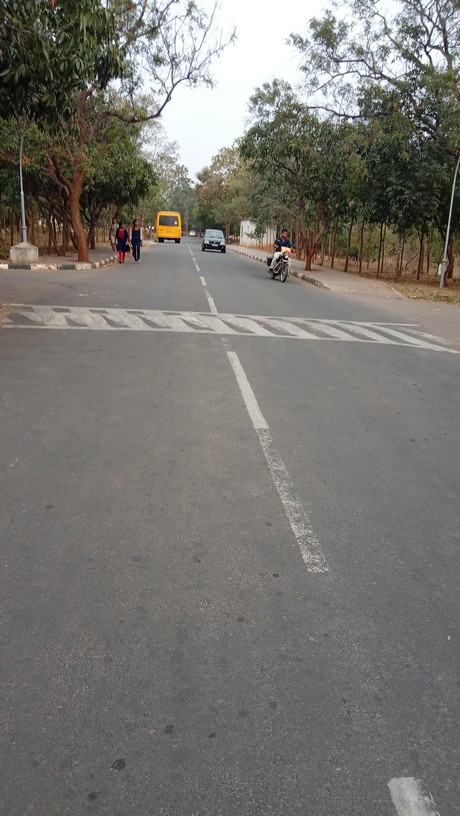bump: (1, 304, 460, 357)
